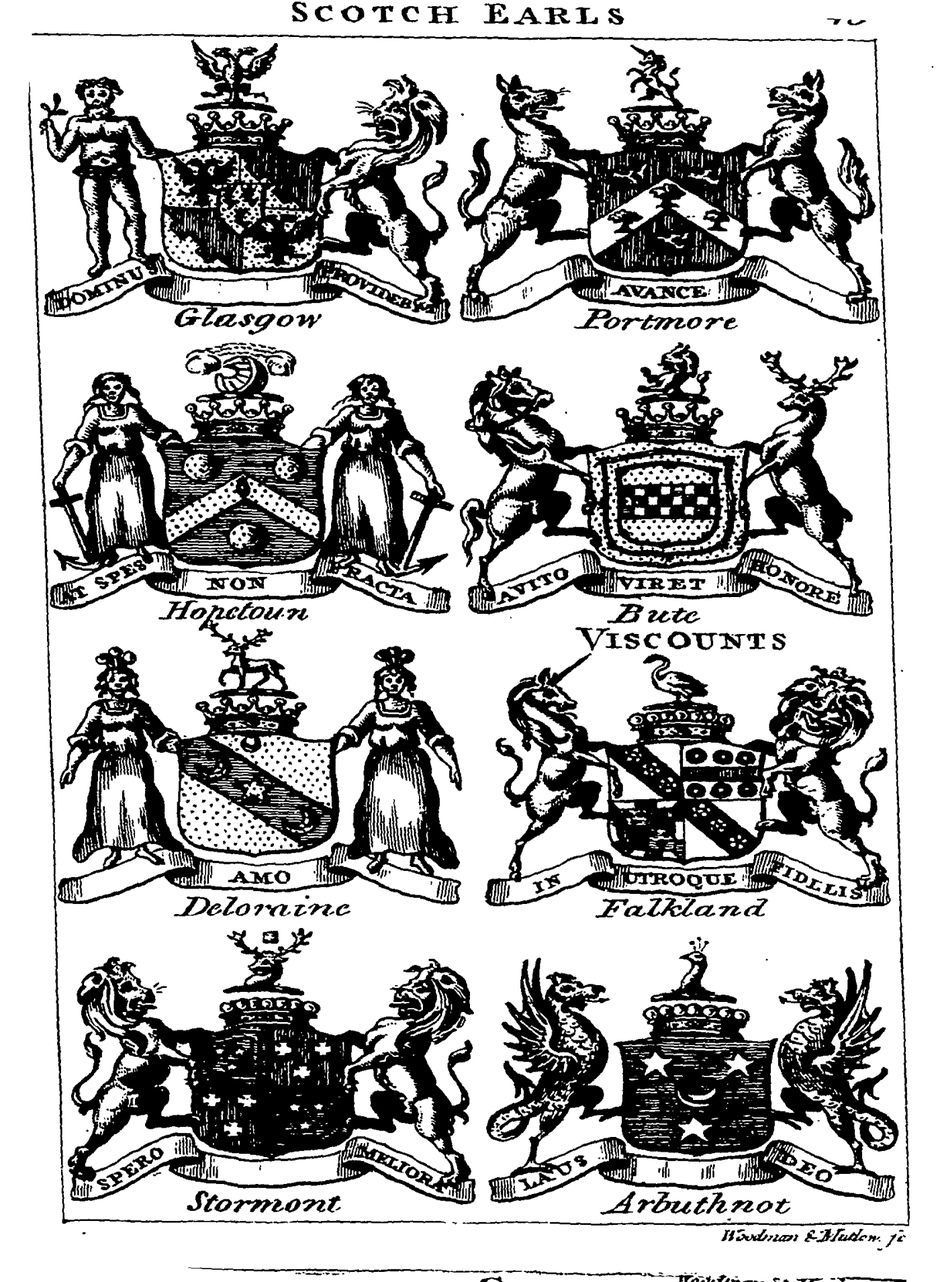coat_of_arms: (462, 340, 878, 657), (38, 40, 456, 339), (38, 340, 461, 635), (52, 631, 470, 927), (52, 922, 479, 1211), (457, 45, 874, 338), (484, 939, 896, 1222), (481, 658, 896, 929)
